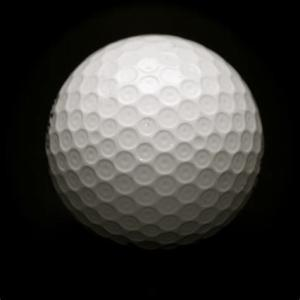Golf: (39, 32, 258, 244)
